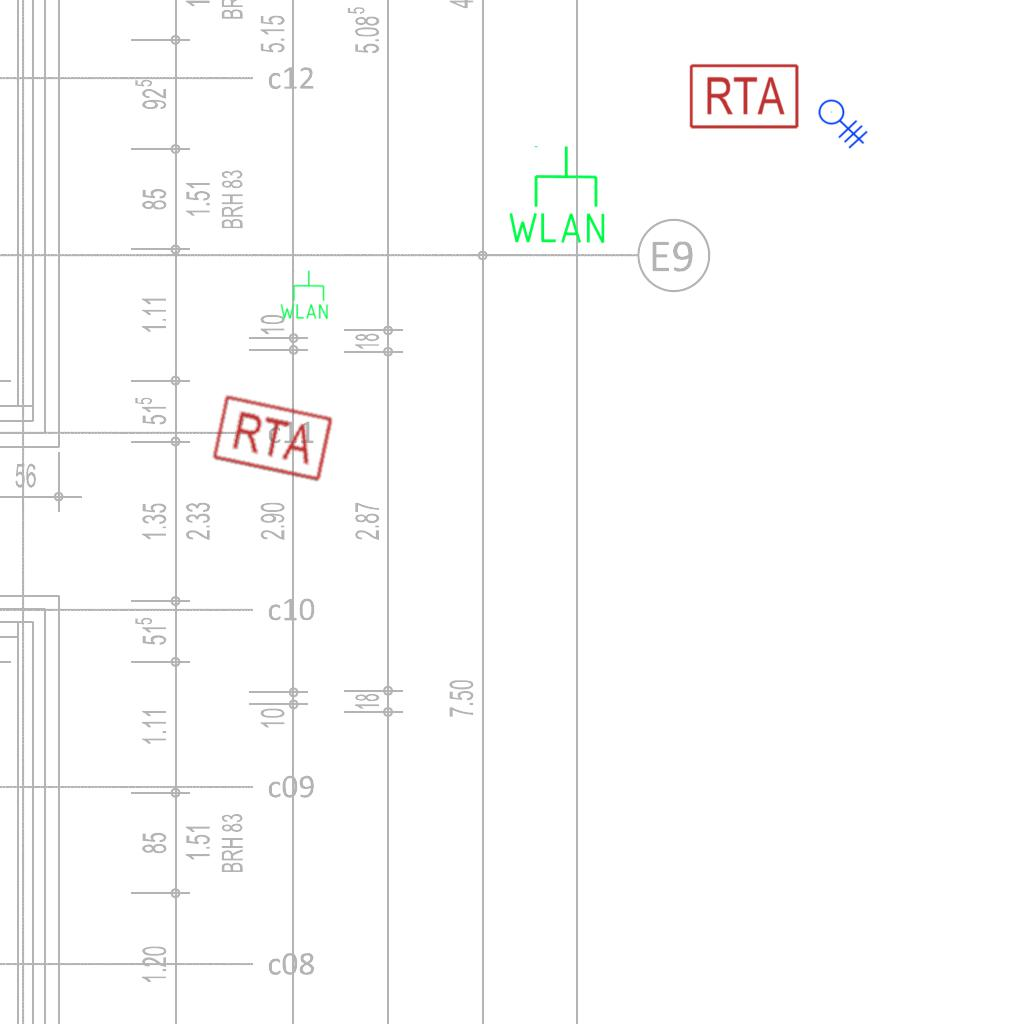Elektroanschluss_allgemein_400V_Geraeteanschlussdose_400V: (818, 91, 874, 149)
Ruf-und_Abstelltaster: (208, 392, 335, 484), (686, 62, 800, 131)
WLAN: (504, 143, 609, 247), (278, 269, 330, 321)
